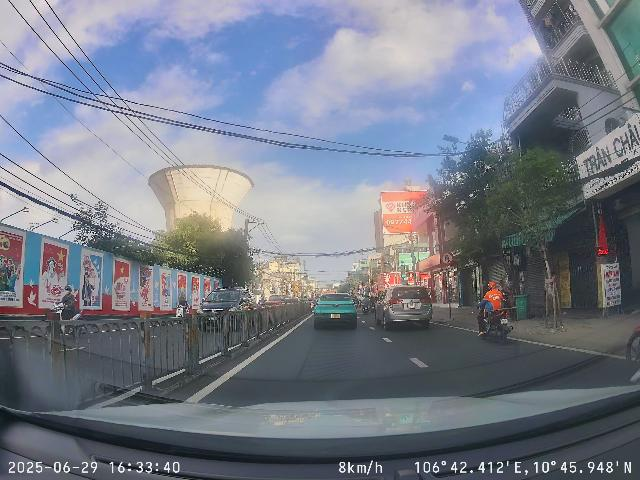124a-cam-quay-dau-xe: (441, 251, 454, 265)
